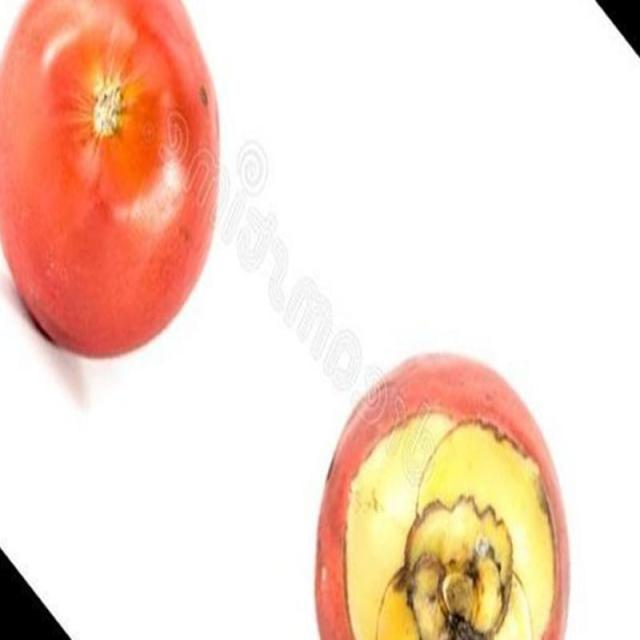good: (0, 0, 220, 359), (314, 353, 570, 639)
